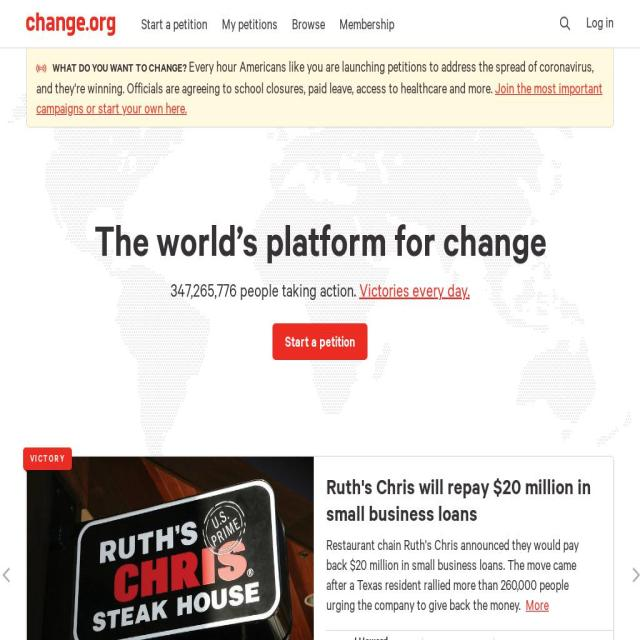button: (27, 456, 314, 640), (327, 472, 598, 526), (272, 322, 368, 360), (140, 1, 208, 47), (222, 1, 278, 47), (339, 1, 394, 47), (291, 1, 325, 47), (586, 12, 614, 32)
heading: (26, 214, 614, 265), (327, 472, 598, 526)
image: (27, 456, 314, 640), (326, 636, 344, 640)
link: (36, 78, 602, 117), (359, 278, 470, 301), (526, 595, 548, 613)
text: (20, 455, 620, 640), (36, 58, 594, 96), (326, 535, 579, 613), (170, 278, 359, 301), (53, 61, 188, 74), (140, 15, 208, 33), (222, 15, 278, 33), (339, 15, 394, 33), (291, 15, 325, 33), (30, 452, 66, 465), (351, 634, 388, 640), (513, 637, 554, 640), (441, 637, 468, 640)
